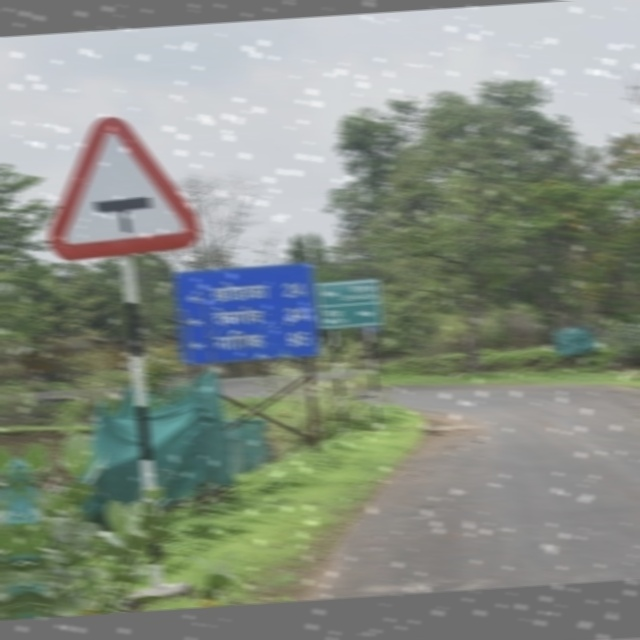T_Intersection: (43, 102, 207, 267)
